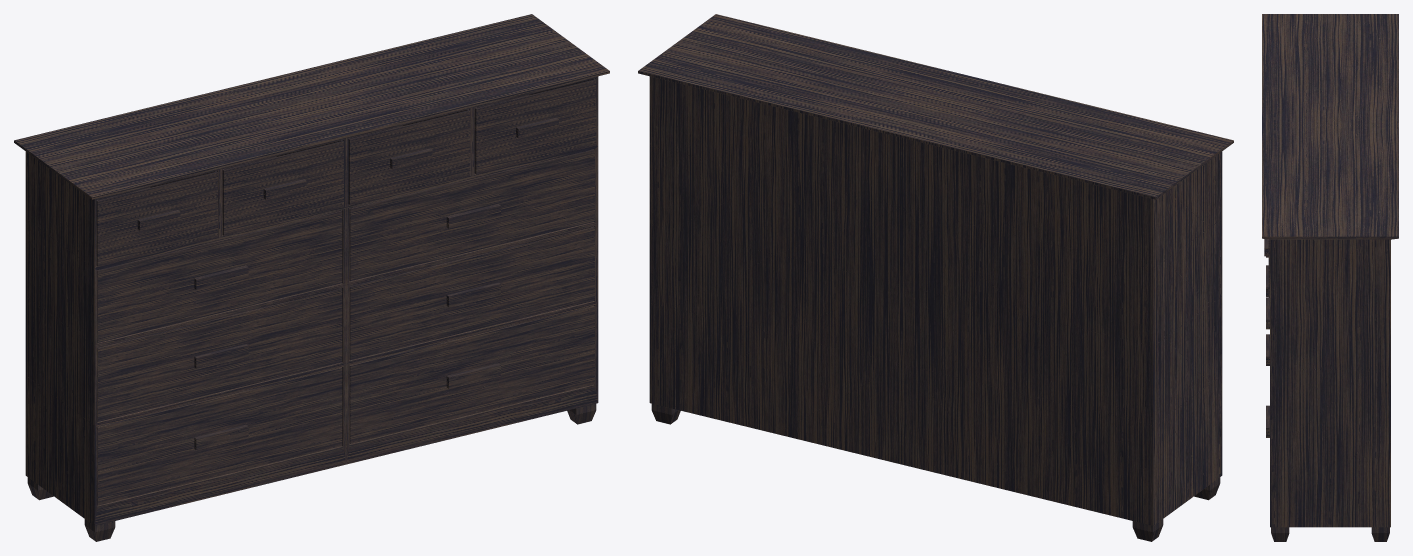
File: bedroom1_dresser_01.glb
The picture shows the model from 3 angles, left to right: view 1: azimuth 30°, elevation 25°; view 2: azimuth 150°, elevation 25°; view 3: azimuth 270°, elevation 25°; orthographic projection. The views are drawn at different scales.
Visible parts, largest first — view 1: Cube, Cube.004, Cube.003, Cube.002, Cube.001; view 2: Cube; view 3: Cube, Cube.004, Cube.001.
Part boxes in pixels (x1,y1,x2,y2): Cube: [14, 14, 609, 541]; Cube.004: [97, 305, 594, 505]; Cube.003: [97, 226, 594, 421]; Cube.002: [97, 149, 594, 342]; Cube.001: [96, 78, 596, 266]; Cube: [638, 14, 1233, 541]; Cube: [1262, 14, 1398, 541]; Cube.004: [1266, 297, 1269, 437]; Cube.001: [1264, 239, 1269, 297].
Bounding box in the file's own units: 227 × 148 × 59.16.
Materials: 2 (2 with a texture image).
